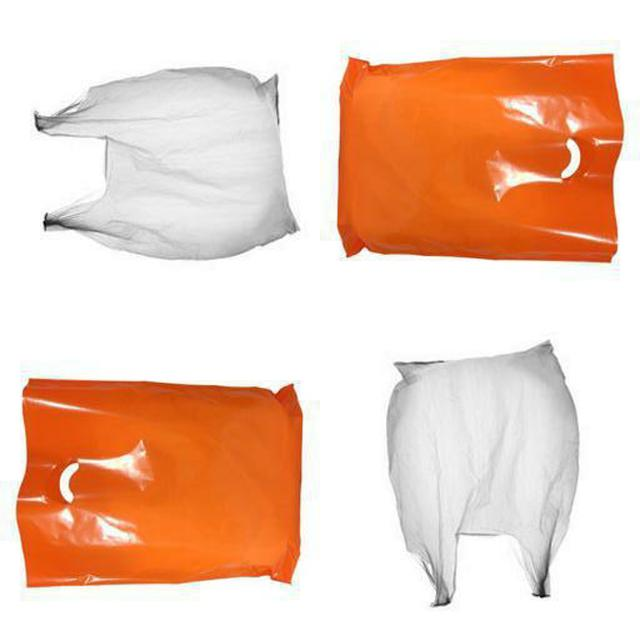Single-layer Plastic: (18, 379, 302, 586), (338, 55, 622, 261), (388, 342, 579, 604), (35, 68, 298, 258)
